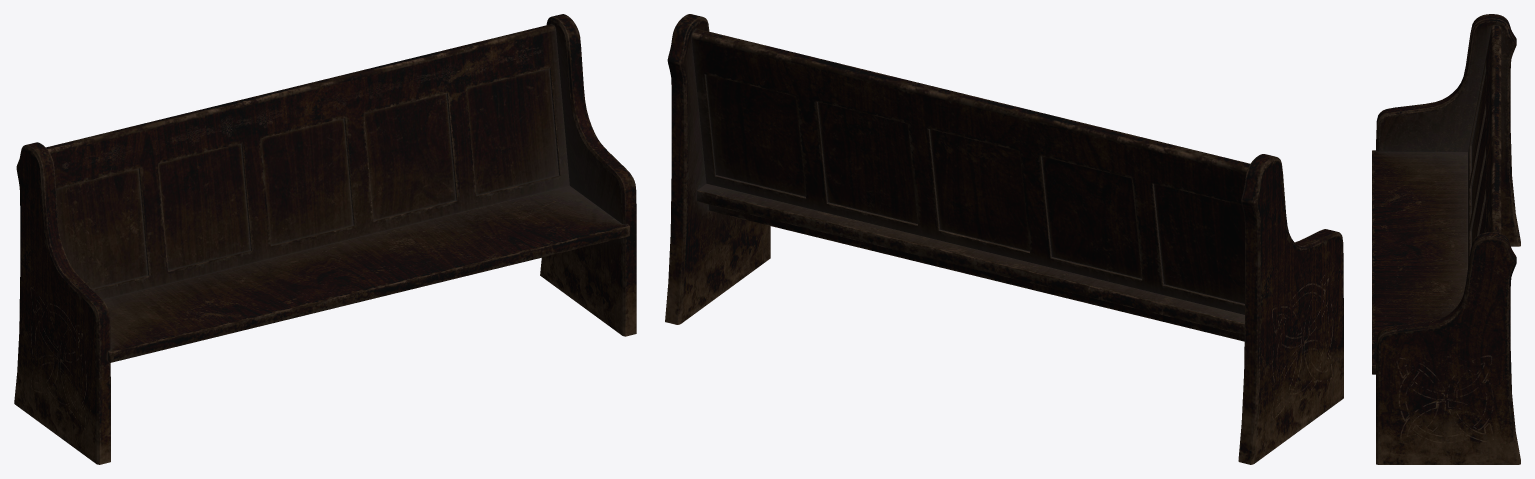
File: church_pew_bench.glb
The picture shows the model from 3 angles, left to right: view 1: azimuth 30°, elevation 25°; view 2: azimuth 150°, elevation 25°; view 3: azimuth 270°, elevation 25°; orthographic projection. The views are drawn at different scales.
Visible parts, largest first — view 1: Cube.002, Cube.003, Cube; view 2: Cube.002, Cube.003, Cube; view 3: Cube.003, Cube, Cube.002.
Part boxes in pixels (bbox=[...]): Cube.002: bbox=[46, 24, 569, 299]; Cube.003: bbox=[14, 14, 636, 464]; Cube: bbox=[103, 185, 629, 362]; Cube.002: bbox=[691, 28, 1250, 341]; Cube.003: bbox=[665, 14, 1343, 464]; Cube: bbox=[697, 183, 1244, 334]; Cube.003: bbox=[1376, 14, 1520, 464]; Cube: bbox=[1372, 150, 1467, 374]; Cube.002: bbox=[1468, 25, 1501, 267].
Bounding box in the file's own units: 2.49 × 1.18 × 0.6985.
1 material, 1 textured.
